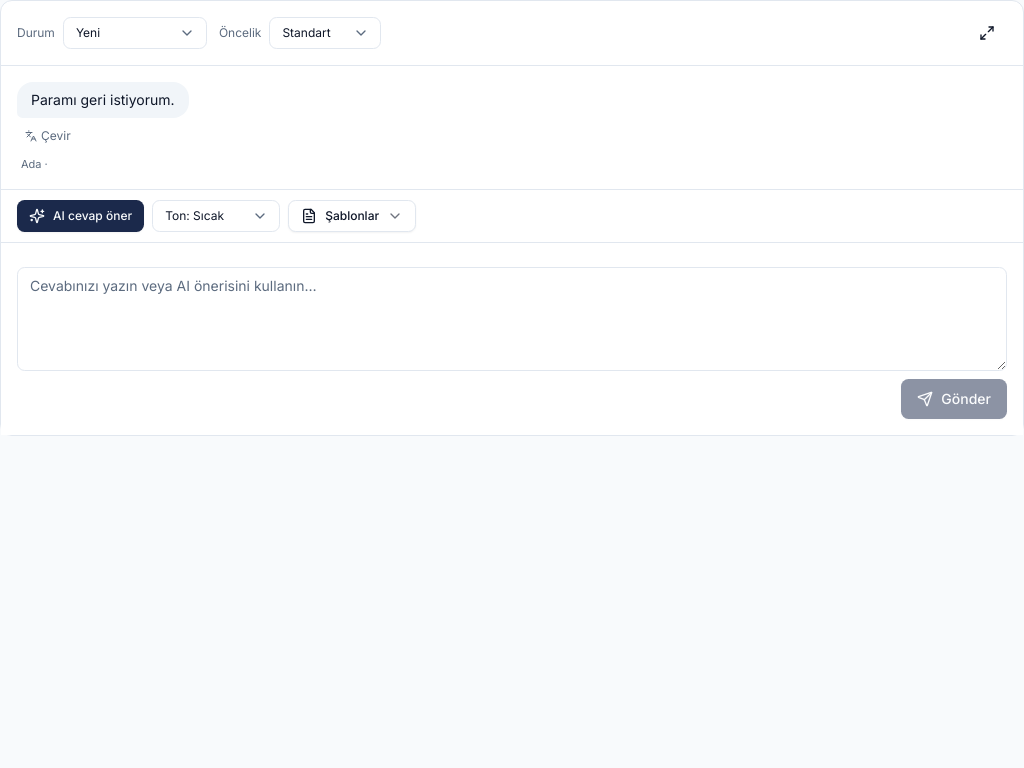
Test: konuşma ekranı — yapay zekâ önerisi hazırlanamadığında (3d) › yalnız kayıtlı bilgiden kurulan taslak gösterilir ama 'AI emin' rozeti yerine kontrol uyarısı taşır
The image size is (1024, 768).
Click the button "AI cevap öner".
click(81, 216)  # box [17, 200, 144, 232]
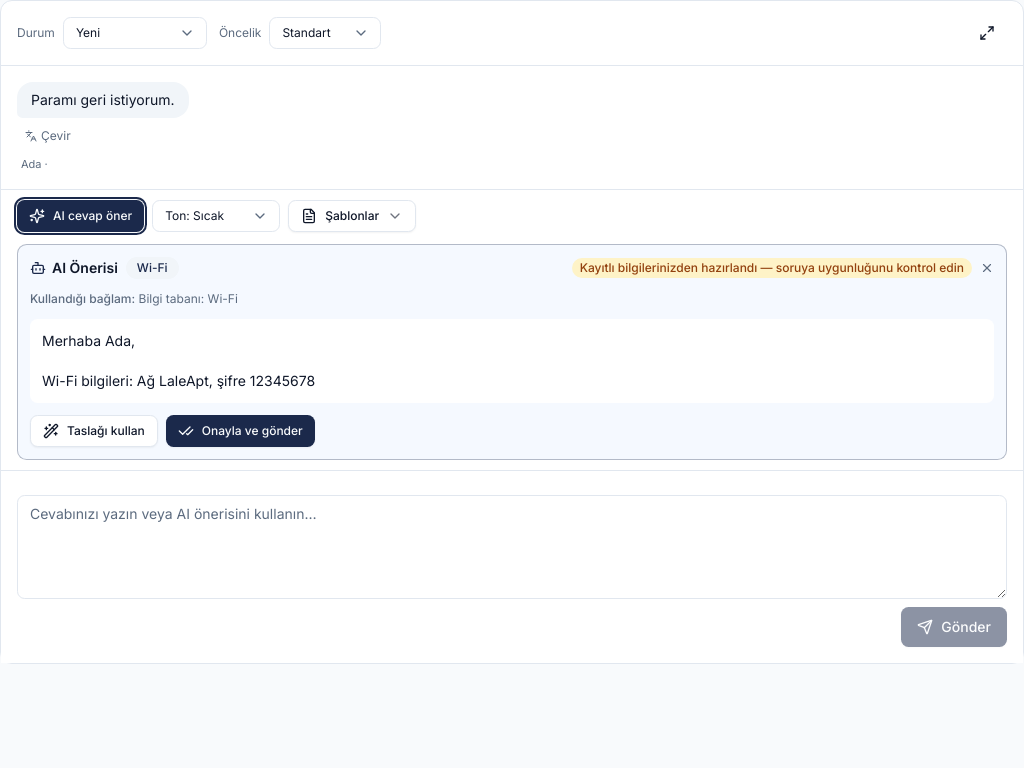
Result: the text "Merhaba Ada, Wi-Fi bilgileri: Ağ LaleApt, şifre 12345678" is shown at [30, 318, 994, 402]
Result: the text with test id "fallback-draft-badge" reads "Kayıtlı bilgilerinizden hazırlandı — soruya uygunluğunu kontrol edin" at [580, 260, 964, 274]
